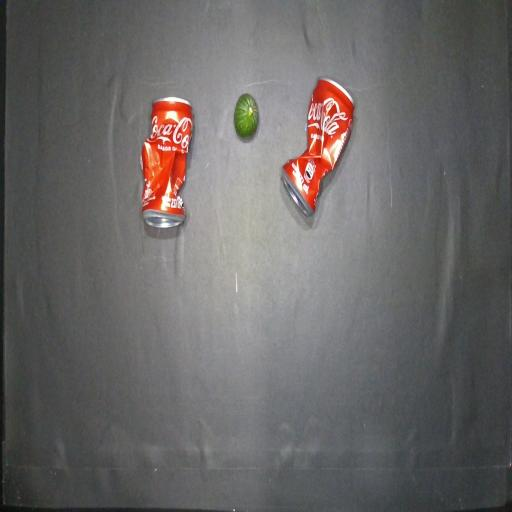higo: (234, 93, 259, 137)
lata_defectuoso: (282, 78, 354, 216), (142, 97, 193, 227)
